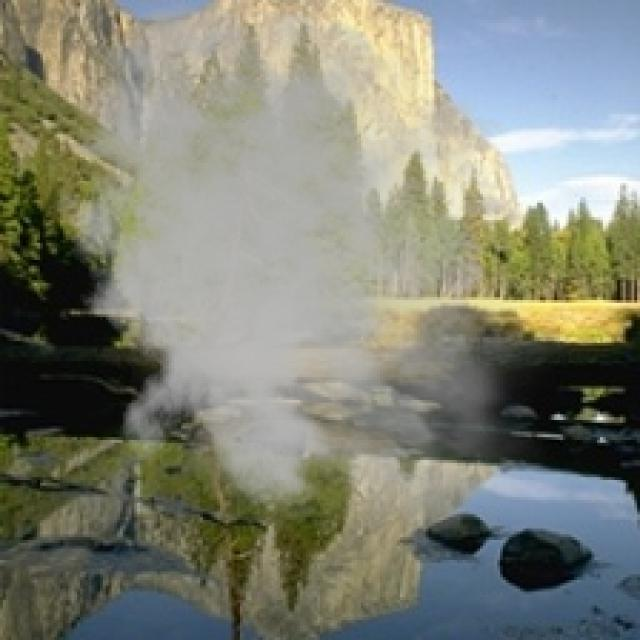smoke: (34, 0, 569, 557)
